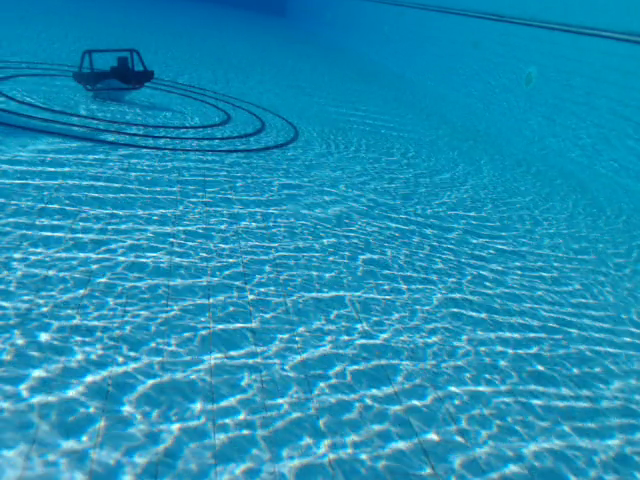submarine: (72, 48, 155, 101)
